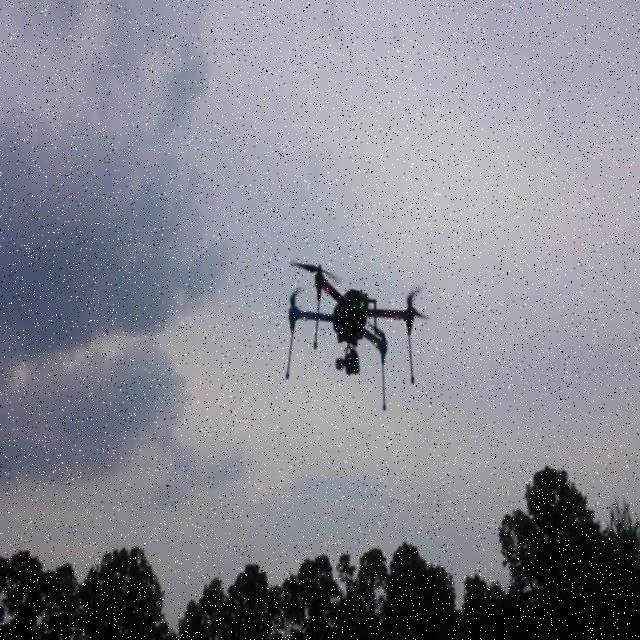UAV: (286, 260, 430, 412)
